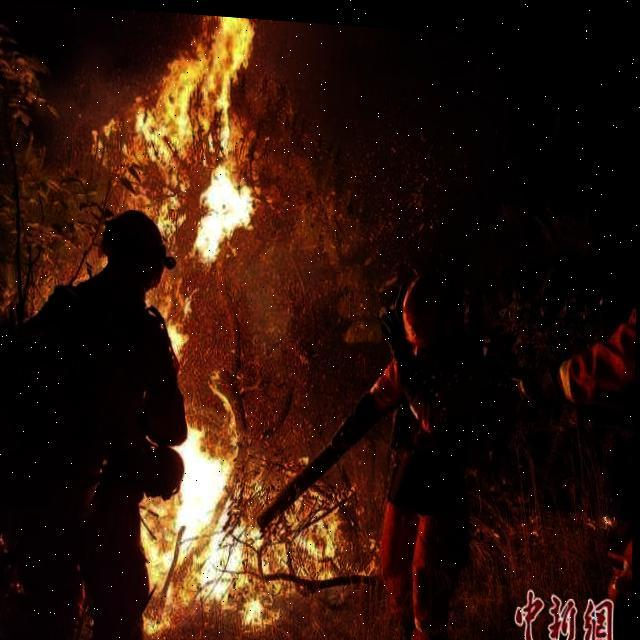Fire: (144, 310, 272, 623)
